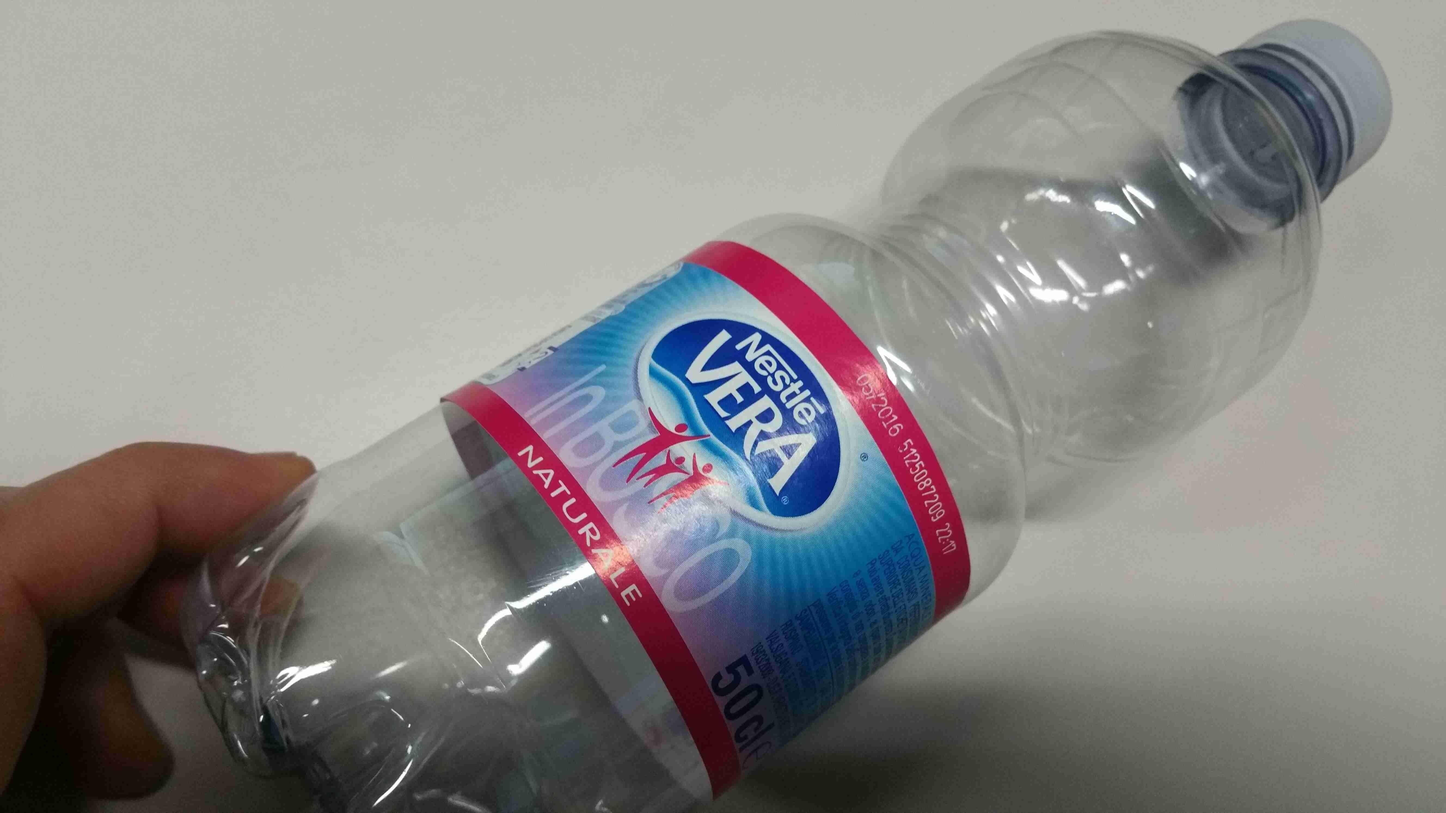bottle-plastic: (173, 15, 1392, 809)
